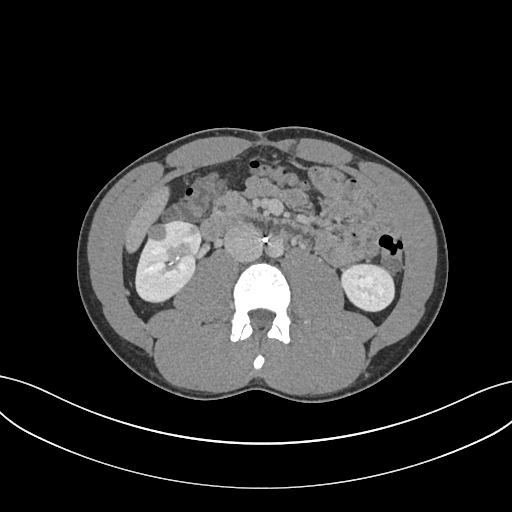Lesion: (145, 222, 170, 242)
